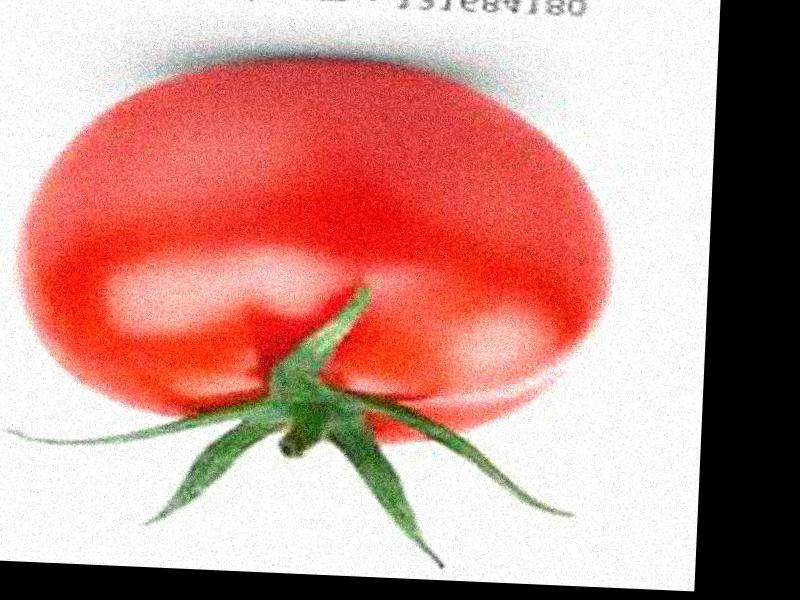Tomato: (12, 51, 621, 450)
